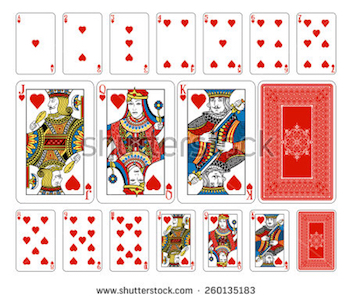10OfHearts: (108, 207, 152, 275)
2OfHearts: (61, 10, 105, 77)
3OfHearts: (108, 10, 154, 77)
4OfHearts: (153, 10, 198, 77)
5OfHearts: (200, 10, 245, 77)
6OfHearts: (246, 11, 292, 77)
7OfHearts: (294, 12, 340, 78)
8OfHearts: (11, 206, 58, 274)
9OfHearts: (61, 209, 105, 275)
AceOfHearts: (13, 10, 59, 78)
JackOfHearts: (14, 79, 98, 207), (154, 208, 199, 274)
KingOfHearts: (175, 77, 260, 203), (248, 206, 292, 275)
QueenOfHearts: (94, 79, 178, 207), (201, 206, 244, 274)
